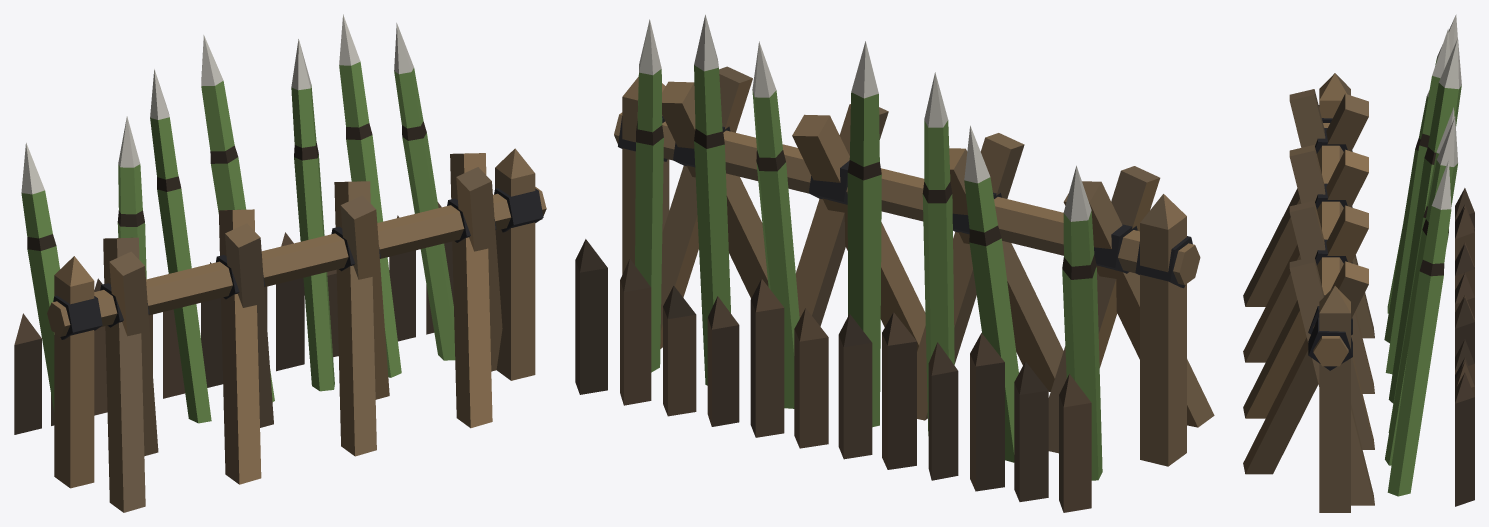
Rendered from field-barricade-a646b9.glb.
3 renders of one model, left to right at view 1: azimuth 30°, elevation 25°; view 2: azimuth 150°, elevation 25°; view 3: azimuth 270°, elevation 25°, orthographic. The views are drawn at different scales.
Parts seen in each view (by area): view 1: barricade; view 2: barricade; view 3: barricade.
Part boxes in pixels (x1,y1,x2,y2): barricade: (14, 14, 546, 512); barricade: (575, 14, 1214, 512); barricade: (1243, 14, 1474, 512).
Bounding box in the file's own units: 2 × 1.4 × 0.8423.
